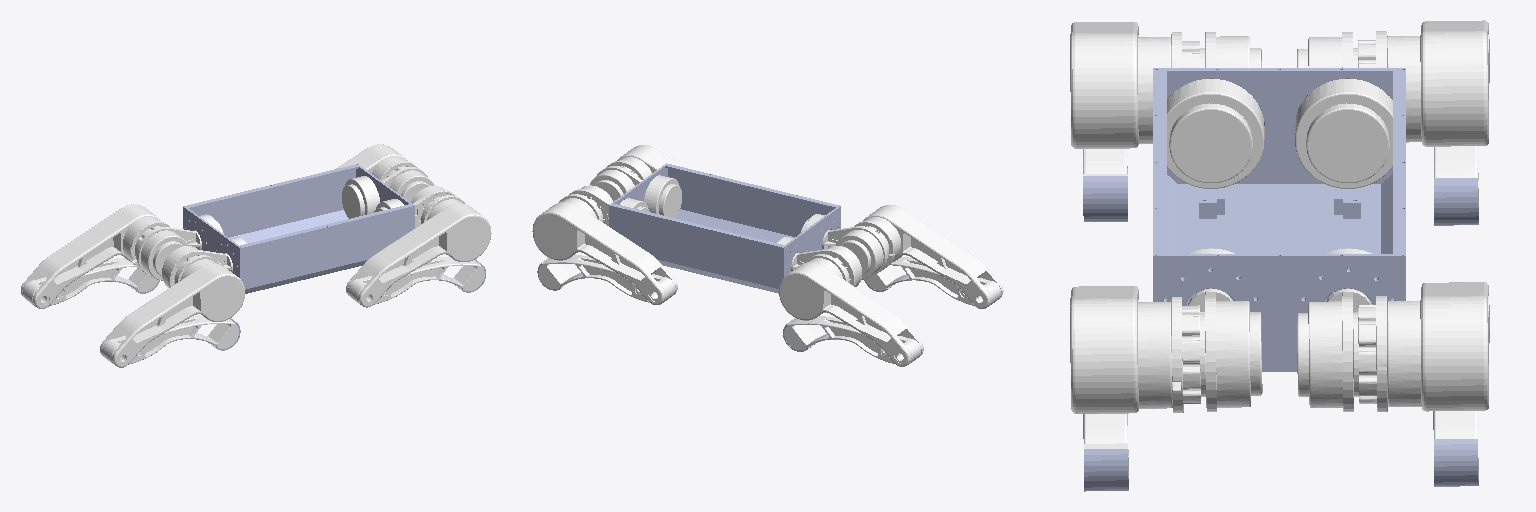
robot.urdf — bengine_description1:
<?xml version="1.0" encoding="utf-8"?>
<robot name="bengine_description1">

  <link name="base_link">
    <inertial>
      <origin
        xyz="1.4246E-10 -8.3627E-09 -0.01377"
        rpy="0 0 0" />
      <mass
        value="5.5" />
      <inertia
        ixx="0.012928"
        ixy="-9.4253E-12"
        ixz="-8.5678E-12"
        iyy="0.037494"
        iyz="4.9943E-10"
        izz="0.045271" />
    </inertial>
    <visual>
      <origin
        xyz="0 0 0"
        rpy="0 0 0" />
      <geometry>
        <mesh
          filename="package://bengine_description1/meshes/base_link.STL" />
      </geometry>
      <material
        name="">
        <color
          rgba="0.79216 0.81961 0.93333 1" />
      </material>
    </visual>
    <collision>
      <origin
        xyz="0 0 0"
        rpy="0 0 0" />
      <geometry>
        <mesh
          filename="package://bengine_description1/meshes/base_link.STL" />
      </geometry>
    </collision>
  </link>

  <link name="LF_roll_Link">
    <inertial>
      <origin
        xyz="0.040364 1.2659E-05 -0.0011006"
        rpy="0 0 0" />
      <mass
        value="1" />
      <inertia
        ixx="0.0013068"
        ixy="-3.4307E-07"
        ixz="2.9915E-05"
        iyy="0.0019766"
        iyz="4.5267E-06"
        izz="0.001591" />
    </inertial>
    <visual>
      <origin
        xyz="0 0 0"
        rpy="0 0 0" />
      <geometry>
        <mesh
          filename="package://bengine_description1/meshes/LF_roll_Link.STL" />
      </geometry>
      <material
        name="">
        <color
          rgba="1 1 1 1" />
      </material>
    </visual>
    <collision>
      <origin
        xyz="0 0 0"
        rpy="0 0 0" />
      <geometry>
        <mesh
          filename="package://bengine_description1/meshes/LF_roll_Link.STL" />
      </geometry>
    </collision>
  </link>

  <joint name="LF_roll_joint"
    type="revolute">
    <origin
      xyz="0.22 0.077 0.0015"
      rpy="0 0 0" />
    <parent
      link="base_link" />
    <child
      link="LF_roll_Link" />
    <axis
      xyz="-1 0 0" />
    <limit
      lower="-3.14"
      upper="3.14"
      effort="100"
      velocity="15" />
  </joint>

  <link name="LF_pitch_Link">
    <inertial>
      <origin
        xyz="-0.049682 0.11584 -0.0084673"
        rpy="0 0 0" />
      <mass
        value="6" />
      <inertia
        ixx="0.0067785"
        ixy="-0.00086216"
        ixz="-0.0056662"
        iyy="0.031525"
        iyz="-0.00014782"
        izz="0.028015" />
    </inertial>
    <visual>
      <origin
        xyz="0 0 0"
        rpy="0 0 0" />
      <geometry>
        <mesh
          filename="package://bengine_description1/meshes/LF_pitch_Link.STL" />
      </geometry>
      <material
        name="">
        <color
          rgba="1 1 1 1" />
      </material>
    </visual>
    <collision>
      <origin
        xyz="0 0 0"
        rpy="0 0 0" />
      <geometry>
        <mesh
          filename="package://bengine_description1/meshes/LF_pitch_Link.STL" />
      </geometry>
    </collision>
  </link>

  <joint name="LF_pitch_joint"
    type="revolute">
    <origin
      xyz="0.1321 -0.029947 -0.0047174"
      rpy="0.011738 0 0" />
    <parent
      link="LF_roll_Link" />
    <child
      link="LF_pitch_Link" />
    <axis
      xyz="0 -1 0" />
    <limit
      lower="-3.14"
      upper="3.14"
      effort="100"
      velocity="15" />
  </joint>

  <link name="LF_knee_Link">
    <inertial>
      <origin
        xyz="0.15397 4.6056E-05 -0.0051606"
        rpy="0 0 0" />
      <mass
        value="3" />
      <inertia
        ixx="0.00033809"
        ixy="1.8662E-06"
        ixz="0.00045925"
        iyy="0.0073266"
        iyz="-8.2684E-08"
        izz="0.0071806" />
    </inertial>
    <visual>
      <origin
        xyz="0 0 0"
        rpy="0 0 0" />
      <geometry>
        <mesh
          filename="package://bengine_description1/meshes/LF_knee_Link.STL" />
      </geometry>
      <material
        name="">
        <color
          rgba="1 1 1 1" />
      </material>
    </visual>
    <collision>
      <origin
        xyz="0 0 0"
        rpy="0 0 0" />
      <geometry>
        <mesh
          filename="package://bengine_description1/meshes/LF_knee_Link.STL" />
      </geometry>
    </collision>
  </link>

  <joint
    name="LF_knee_joint"
    type="revolute">
    <origin
      xyz="-0.28465 0.15 -0.094729"
      rpy="0 0 0" />
    <parent
      link="LF_pitch_Link" />
    <child
      link="LF_knee_Link" />
    <axis
      xyz="0 -1 0" />
    <limit
      lower="-3.14"
      upper="3.14"
      effort="100"
      velocity="15" />
  </joint>
  <link
    name="LF_sensor_Link">
    <inertial>
      <origin
        xyz="0.017161 -0.02479 -0.01807"
        rpy="0 0 0" />
      <mass
        value="0.018948" />
      <inertia
        ixx="1.2239E-05"
        ixy="6.7853E-08"
        ixz="-5.7805E-06"
        iyy="1.6991E-05"
        iyz="5.0987E-08"
        izz="1.2648E-05" />
    </inertial>
    <visual>
      <origin
        xyz="0 0 0"
        rpy="0 0 0" />
      <geometry>
        <mesh
          filename="package://bengine_description1/meshes/LF_sensor_Link.STL" />
      </geometry>
      <material
        name="">
        <color
          rgba="0.79216 0.81961 0.93333 1" />
      </material>
    </visual>
    <collision>
      <origin
        xyz="0 0 0"
        rpy="0 0 0" />
      <geometry>
        <mesh
          filename="package://bengine_description1/meshes/LF_sensor_Link.STL" />
      </geometry>
    </collision>
  </link>
  <joint
    name="LF_sensor_joint"
    type="fixed">
    <origin
      xyz="0.29975 0.025 -0.018896"
      rpy="-0.011738 0 0" />
    <parent
      link="LF_knee_Link" />
    <child
      link="LF_sensor_Link" />
    <axis
      xyz="0 0 0" />
    <limit
      lower="0"
      upper="0"
      effort="0"
      velocity="0" />
  </joint>
  <link
    name="RF_roll_Link">
    <inertial>
      <origin
        xyz="0.040364 1.6542E-05 -0.0011006"
        rpy="0 0 0" />
      <mass
        value="1" />
      <inertia
        ixx="0.0013068"
        ixy="-4.4861E-07"
        ixz="2.9913E-05"
        iyy="0.0019766"
        iyz="5.8871E-06"
        izz="0.0015911" />
    </inertial>
    <visual>
      <origin
        xyz="0 0 0"
        rpy="0 0 0" />
      <geometry>
        <mesh
          filename="package://bengine_description1/meshes/RF_roll_Link.STL" />
      </geometry>
      <material
        name="">
        <color
          rgba="1 1 1 1" />
      </material>
    </visual>
    <collision>
      <origin
        xyz="0 0 0"
        rpy="0 0 0" />
      <geometry>
        <mesh
          filename="package://bengine_description1/meshes/RF_roll_Link.STL" />
      </geometry>
    </collision>
  </link>
  <joint
    name="RF_roll_joint"
    type="revolute">
    <origin
      xyz="0.22 -0.077 0.0015"
      rpy="0 0 0" />
    <parent
      link="base_link" />
    <child
      link="RF_roll_Link" />
    <axis
      xyz="-1 0 0" />
    <limit
      lower="-3.14"
      upper="3.14"
      effort="100"
      velocity="15" />
  </joint>
  <link
    name="RF_pitch_Link">
    <inertial>
      <origin
        xyz="-0.049991 -0.11589 -0.0089042"
        rpy="0 0 0" />
      <mass
        value="6" />
      <inertia
        ixx="0.0068866"
        ixy="0.00086703"
        ixz="-0.0058854"
        iyy="0.031789"
        iyz="0.00015207"
        izz="0.028186" />
    </inertial>
    <visual>
      <origin
        xyz="0 0 0"
        rpy="0 0 0" />
      <geometry>
        <mesh
          filename="package://bengine_description1/meshes/RF_pitch_Link.STL" />
      </geometry>
      <material
        name="">
        <color
          rgba="1 1 1 1" />
      </material>
    </visual>
    <collision>
      <origin
        xyz="0 0 0"
        rpy="0 0 0" />
      <geometry>
        <mesh
          filename="package://bengine_description1/meshes/RF_pitch_Link.STL" />
      </geometry>
    </collision>
  </link>
  <joint
    name="RF_pitch_joint"
    type="revolute">
    <origin
      xyz="0.1321 0.030063 -0.0039071"
      rpy="0.015266 0 0" />
    <parent
      link="RF_roll_Link" />
    <child
      link="RF_pitch_Link" />
    <axis
      xyz="0 1 0" />
    <limit
      lower="-3.14"
      upper="3.14"
      effort="100"
      velocity="15" />
  </joint>
  <link
    name="RF_knee_Link">
    <inertial>
      <origin
        xyz="0.15415 -4.02E-05 -0.0050232"
        rpy="0 0 0" />
      <mass
        value="3" />
      <inertia
        ixx="0.00033753"
        ixy="-1.9982E-06"
        ixz="0.00045382"
        iyy="0.0073391"
        iyz="1.1633E-07"
        izz="0.0071938" />
    </inertial>
    <visual>
      <origin
        xyz="0 0 0"
        rpy="0 0 0" />
      <geometry>
        <mesh
          filename="package://bengine_description1/meshes/RF_knee_Link.STL" />
      </geometry>
      <material
        name="">
        <color
          rgba="1 1 1 1" />
      </material>
    </visual>
    <collision>
      <origin
        xyz="0 0 0"
        rpy="0 0 0" />
      <geometry>
        <mesh
          filename="package://bengine_description1/meshes/RF_knee_Link.STL" />
      </geometry>
    </collision>
  </link>
  <joint
    name="RF_knee_joint"
    type="revolute">
    <origin
      xyz="-0.28413 -0.15 -0.096285"
      rpy="0 0 0" />
    <parent
      link="RF_pitch_Link" />
    <child
      link="RF_knee_Link" />
    <axis
      xyz="0 -1 0" />
    <limit
      lower="-3.14"
      upper="3.14"
      effort="100"
      velocity="15" />
  </joint>
  <link
    name="RF_sensor_Link">
    <inertial>
      <origin
        xyz="0.015066 -0.02468 -0.021168"
        rpy="0 0 0" />
      <mass
        value="0.024069" />
      <inertia
        ixx="1.3408E-05"
        ixy="1.0812E-07"
        ixz="-7.0819E-06"
        iyy="2.1459E-05"
        iyz="5.1584E-08"
        izz="1.8081E-05" />
    </inertial>
    <visual>
      <origin
        xyz="0 0 0"
        rpy="0 0 0" />
      <geometry>
        <mesh
          filename="package://bengine_description1/meshes/RF_sensor_Link.STL" />
      </geometry>
      <material
        name="">
        <color
          rgba="0.79216 0.81961 0.93333 1" />
      </material>
    </visual>
    <collision>
      <origin
        xyz="0 0 0"
        rpy="0 0 0" />
      <geometry>
        <mesh
          filename="package://bengine_description1/meshes/RF_sensor_Link.STL" />
      </geometry>
    </collision>
  </link>
  <joint
    name="RF_sensor_joint"
    type="fixed">
    <origin
      xyz="0.29982 0.025 -0.018563"
      rpy="-0.015266 0 0" />
    <parent
      link="RF_knee_Link" />
    <child
      link="RF_sensor_Link" />
    <axis
      xyz="0 0 0" />
    <limit
      lower="0"
      upper="0"
      effort="0"
      velocity="0" />
  </joint>
  <link
    name="LB_roll_Link">
    <inertial>
      <origin
        xyz="-0.040364 1.4698E-05 -0.0011006"
        rpy="0 0 0" />
      <mass
        value="1" />
      <inertia
        ixx="0.0013068"
        ixy="4.0051E-07"
        ixz="-2.9914E-05"
        iyy="0.0019766"
        iyz="5.0596E-06"
        izz="0.001591" />
    </inertial>
    <visual>
      <origin
        xyz="0 0 0"
        rpy="0 0 0" />
      <geometry>
        <mesh
          filename="package://bengine_description1/meshes/LB_roll_Link.STL" />
      </geometry>
      <material
        name="">
        <color
          rgba="1 1 1 1" />
      </material>
    </visual>
    <collision>
      <origin
        xyz="0 0 0"
        rpy="0 0 0" />
      <geometry>
        <mesh
          filename="package://bengine_description1/meshes/LB_roll_Link.STL" />
      </geometry>
    </collision>
  </link>
  <joint
    name="LB_roll_joint"
    type="continuous">
    <origin
      xyz="-0.22 0.077 0.0015"
      rpy="0 0 0" />
    <parent
      link="base_link" />
    <child
      link="LB_roll_Link" />
    <axis
      xyz="1 0 0" />
    <limit
      lower="-3.14"
      upper="3.14"
      effort="100"
      velocity="15" />
  </joint>
  <link
    name="LB_pitch_Link">
    <inertial>
      <origin
        xyz="-0.04954 0.11584 -0.009262"
        rpy="0 0 0" />
      <mass
        value="6" />
      <inertia
        ixx="0.0069647"
        ixy="-0.00085987"
        ixz="-0.0060027"
        iyy="0.031525"
        iyz="-0.00016075"
        izz="0.027829" />
    </inertial>
    <visual>
      <origin
        xyz="0 0 0"
        rpy="0 0 0" />
      <geometry>
        <mesh
          filename="package://bengine_description1/meshes/LB_pitch_Link.STL" />
      </geometry>
      <material
        name="">
        <color
          rgba="1 1 1 1" />
      </material>
    </visual>
    <collision>
      <origin
        xyz="0 0 0"
        rpy="0 0 0" />
      <geometry>
        <mesh
          filename="package://bengine_description1/meshes/LB_pitch_Link.STL" />
      </geometry>
    </collision>
  </link>

  <joint name="LB_pitch_joint"
    type="revolute">
    <origin
      xyz="-0.1321 -0.02994 -0.0047587"
      rpy="0.013118 0 0" />
    <parent
      link="LB_roll_Link" />
    <child
      link="LB_pitch_Link" />
    <axis
      xyz="0 -1 0" />
    <limit
      lower="-3.14"
      upper="3.14"
      effort="100"
      velocity="15" />
  </joint>

  <link
    name="LB_knee_Link">
    <inertial>
      <origin
        xyz="0.15399 4.6051E-05 -0.0043814"
        rpy="0 0 0" />
      <mass
        value="3" />
      <inertia
        ixx="0.00033362"
        ixy="1.8666E-06"
        ixz="0.0004246"
        iyy="0.0073266"
        iyz="-7.3166E-08"
        izz="0.007185" />
    </inertial>
    <visual>
      <origin
        xyz="0 0 0"
        rpy="0 0 0" />
      <geometry>
        <mesh
          filename="package://bengine_description1/meshes/LB_knee_Link.STL" />
      </geometry>
      <material
        name="">
        <color
          rgba="1 1 1 1" />
      </material>
    </visual>
    <collision>
      <origin
        xyz="0 0 0"
        rpy="0 0 0" />
      <geometry>
        <mesh
          filename="package://bengine_description1/meshes/LB_knee_Link.STL" />
      </geometry>
    </collision>
  </link>
  <joint
    name="LB_knee_joint"
    type="revolute">
    <origin
      xyz="-0.28312 0.15 -0.099224"
      rpy="0 0 0" />
    <parent
      link="LB_pitch_Link" />
    <child
      link="LB_knee_Link" />
    <axis
      xyz="0 1 0" />
    <limit
      lower="-3.14"
      upper="3.14"
      effort="100"
      velocity="15" />
  </joint>
  <link
    name="LB_sensor_Link">
    <inertial>
      <origin
        xyz="0.016468 -0.024751 -0.019126"
        rpy="0 0 0" />
      <mass
        value="0.024664" />
      <inertia
        ixx="1.5459E-05"
        ixy="1.0016E-07"
        ixz="-7.6348E-06"
        iyy="2.2668E-05"
        iyz="6.797E-08"
        izz="1.7488E-05" />
    </inertial>
    <visual>
      <origin
        xyz="0 0 0"
        rpy="0 0 0" />
      <geometry>
        <mesh
          filename="package://bengine_description1/meshes/LB_sensor_Link.STL" />
      </geometry>
      <material
        name="">
        <color
          rgba="0.79216 0.81961 0.93333 1" />
      </material>
    </visual>
    <collision>
      <origin
        xyz="0 0 0"
        rpy="0 0 0" />
      <geometry>
        <mesh
          filename="package://bengine_description1/meshes/LB_sensor_Link.STL" />
      </geometry>
    </collision>
  </link>
  <joint
    name="LB_sensor_joint"
    type="fixed">
    <origin
      xyz="0.29984 0.025 -0.017379"
      rpy="-0.013118 0 0" />
    <parent
      link="LB_knee_Link" />
    <child
      link="LB_sensor_Link" />
    <axis
      xyz="0 0 0" />
    <limit
      lower="0"
      upper="0"
      effort="0"
      velocity="0" />
  </joint>
  <link
    name="RB_roll_Link">
    <inertial>
      <origin
        xyz="-0.040364 1.1792E-05 -0.0011006"
        rpy="0 0 0" />
      <mass
        value="1" />
      <inertia
        ixx="0.0013068"
        ixy="3.2151E-07"
        ixz="-2.9915E-05"
        iyy="0.0019767"
        iyz="4.0414E-06"
        izz="0.001591" />
    </inertial>
    <visual>
      <origin
        xyz="0 0 0"
        rpy="0 0 0" />
      <geometry>
        <mesh
          filename="package://bengine_description1/meshes/RB_roll_Link.STL" />
      </geometry>
      <material
        name="">
        <color
          rgba="1 1 1 1" />
      </material>
    </visual>
    <collision>
      <origin
        xyz="0 0 0"
        rpy="0 0 0" />
      <geometry>
        <mesh
          filename="package://bengine_description1/meshes/RB_roll_Link.STL" />
      </geometry>
    </collision>
  </link>
  <joint
    name="RB_roll_joint"
    type="revolute">
    <origin
      xyz="-0.22 -0.077 0.0015"
      rpy="0 0 0" />
    <parent
      link="base_link" />
    <child
      link="RB_roll_Link" />
    <axis
      xyz="1 0 0" />
    <limit
      lower="-3.14"
      upper="3.14"
      effort="100"
      velocity="15" />
  </joint>
  
  <link
    name="RB_pitch_Link">
    <inertial>
      <origin
        xyz="-0.049958 -0.11589 -0.0090966"
        rpy="0 0 0" />
      <mass
        value="6" />
      <inertia
        ixx="0.0069305"
        ixy="0.0008664"
        ixz="-0.0059669"
        iyy="0.031789"
        iyz="0.00015494"
        izz="0.028142" />
    </inertial>
    <visual>
      <origin
        xyz="0 0 0"
        rpy="0 0 0" />
      <geometry>
        <mesh
          filename="package://bengine_description1/meshes/RB_pitch_Link.STL" />
      </geometry>
      <material
        name="">
        <color
          rgba="1 1 1 1" />
      </material>
    </visual>
    <collision>
      <origin
        xyz="0 0 0"
        rpy="0 0 0" />
      <geometry>
        <mesh
          filename="package://bengine_description1/meshes/RB_pitch_Link.STL" />
      </geometry>
    </collision>
  </link>

  <joint
    name="RB_pitch_joint"
    type="revolute">
    <origin
      xyz="-0.1321 0.030044 -0.004051"
      rpy="0.010477 0 0" />
    <parent
      link="RB_roll_Link" />
    <child
      link="RB_pitch_Link" />
    <axis
      xyz="0 1 0" />
    <limit
      lower="-3.14"
      upper="3.14"
      effort="100"
      velocity="15" />
  </joint>

  <link name="RB_knee_Link">
    <inertial>
      <origin
        xyz="0.15423 -4.0188E-05 -0.00176"
        rpy="0 0 0" />
      <mass
        value="3" />
      <inertia
        ixx="0.0003214"
        ixy="-1.9999E-06"
        ixz="0.00030836"
        iyy="0.0073391"
        iyz="7.392E-08"
        izz="0.0072099" />
    </inertial>
    <visual>
      <origin
        xyz="0 0 0"
        rpy="0 0 0" />
      <geometry>
        <mesh
          filename="package://bengine_description1/meshes/RB_knee_Link.STL" />
      </geometry>
      <material
        name="">
        <color
          rgba="1 1 1 1" />
      </material>
    </visual>
    <collision>
      <origin
        xyz="0 0 0"
        rpy="0 0 0" />
      <geometry>
        <mesh
          filename="package://bengine_description1/meshes/RB_knee_Link.STL" />
      </geometry>
    </collision>
  </link>

  <joint name="RB_knee_joint"
    type="revolute">
    <origin
      xyz="-0.28377 -0.15 -0.097351"
      rpy="0 0 0" />
    <parent
      link="RB_pitch_Link" />
    <child
      link="RB_knee_Link" />
    <axis
      xyz="0 1 0" />
    <limit
      lower="-3.14"
      upper="3.14"
      effort="100"
      velocity="15" />
  </joint>

  <link name="RB_sensor_Link">
    <inertial>
      <origin
        xyz="0.016572 -0.024797 -0.019507"
        rpy="0 0 0" />
      <mass
        value="0.023885" />
      <inertia
        ixx="1.4642E-05"
        ixy="7.6959E-08"
        ixz="-7.3451E-06"
        iyy="2.1547E-05"
        iyz="4.913E-08"
        izz="1.6859E-05" />
    </inertial>
    <visual>
      <origin
        xyz="0 0 0"
        rpy="0 0 0" />
      <geometry>
        <mesh
          filename="package://bengine_description1/meshes/RB_sensor_Link.STL" />
      </geometry>
      <material
        name="">
        <color
          rgba="0.79216 0.81961 0.93333 1" />
      </material>
    </visual>
    <collision>
      <origin
        xyz="0 0 0"
        rpy="0 0 0" />
      <geometry>
        <mesh
          filename="package://bengine_description1/meshes/RB_sensor_Link.STL" />
      </geometry>
    </collision>
  </link>

  <joint name="RB_sensor_joint"
    type="fixed">
    <origin
      xyz="0.30014 0.025 -0.012214"
      rpy="-0.010477 0 0" />
    <parent
      link="RB_knee_Link" />
    <child
      link="RB_sensor_Link" />
    <axis
      xyz="0 0 0" />
    <limit
      lower="0"
      upper="0"
      effort="0"
      velocity="0" />
  </joint>

</robot>

--- Facts derived from the render (not from the file) ---
The picture shows the robot from 3 angles, left to right: view 1: azimuth 30°, elevation 25°; view 2: azimuth 150°, elevation 25°; view 3: azimuth 270°, elevation 25°; orthographic projection.
Robot: bengine_description1 — 17 links, 16 joints (11 revolute, 1 continuous, 4 fixed); root link base_link; default pose: every joint at zero.
Links seen in each view (by area): view 1: base_link, RB_pitch_Link, RF_pitch_Link, LB_pitch_Link, RF_knee_Link, RB_knee_Link, LF_pitch_Link, LB_knee_Link, LF_roll_Link, LB_roll_Link, RB_roll_Link, RF_roll_Link; view 2: base_link, LB_pitch_Link, LF_pitch_Link, RB_pitch_Link, LB_knee_Link, LF_knee_Link, RF_pitch_Link, RB_knee_Link, RF_roll_Link, RB_roll_Link, LB_roll_Link, LF_roll_Link; view 3: base_link, LF_pitch_Link, RF_pitch_Link, LB_pitch_Link, RB_pitch_Link, LB_roll_Link, RB_roll_Link, LB_sensor_Link, LF_sensor_Link, RB_sensor_Link, RF_roll_Link, LF_roll_Link (+5 smaller).
Boxes of the visible links, box(x1,y1,x2,y2) form: base_link: box(183, 164, 414, 293); RB_pitch_Link: box(100, 246, 244, 367); RF_pitch_Link: box(346, 186, 491, 307); LB_pitch_Link: box(21, 204, 187, 308); RF_knee_Link: box(348, 257, 484, 304); RB_knee_Link: box(102, 315, 238, 363); LF_pitch_Link: box(336, 144, 434, 201); LB_knee_Link: box(23, 258, 158, 306); LF_roll_Link: box(342, 167, 427, 218); LB_roll_Link: box(136, 214, 223, 276); RB_roll_Link: box(168, 237, 247, 287); RF_roll_Link: box(374, 190, 455, 227); base_link: box(609, 163, 840, 293); LB_pitch_Link: box(779, 246, 923, 366); LF_pitch_Link: box(532, 185, 677, 304); RB_pitch_Link: box(836, 205, 1003, 308); LB_knee_Link: box(784, 316, 920, 364); LF_knee_Link: box(539, 255, 675, 302); RF_pitch_Link: box(590, 145, 684, 201); RB_knee_Link: box(865, 257, 1000, 306); RF_roll_Link: box(596, 166, 681, 217); RB_roll_Link: box(800, 214, 887, 276); LB_roll_Link: box(777, 237, 856, 286); LF_roll_Link: box(569, 189, 649, 225); base_link: box(1153, 68, 1405, 371); LF_pitch_Link: box(1297, 282, 1489, 411); RF_pitch_Link: box(1070, 286, 1262, 413); LB_pitch_Link: box(1297, 20, 1489, 146); RB_pitch_Link: box(1070, 22, 1261, 148); LB_roll_Link: box(1295, 32, 1392, 188); RB_roll_Link: box(1167, 32, 1264, 188); LB_sensor_Link: box(1434, 178, 1478, 225); LF_sensor_Link: box(1434, 439, 1478, 486); RB_sensor_Link: box(1083, 176, 1127, 221); RF_roll_Link: box(1165, 248, 1256, 411); LF_roll_Link: box(1302, 248, 1394, 411).
Bounding box of the posed robot: 1.08 × 0.4725 × 0.2327 m (x, y, z).
17 mesh visuals loaded from 17 distinct referenced files (17 binary STL).